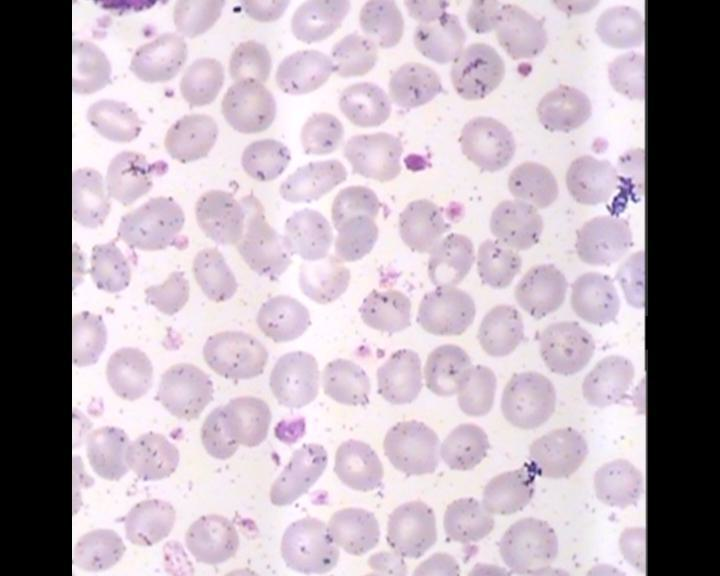baso: (87, 0, 169, 16)
